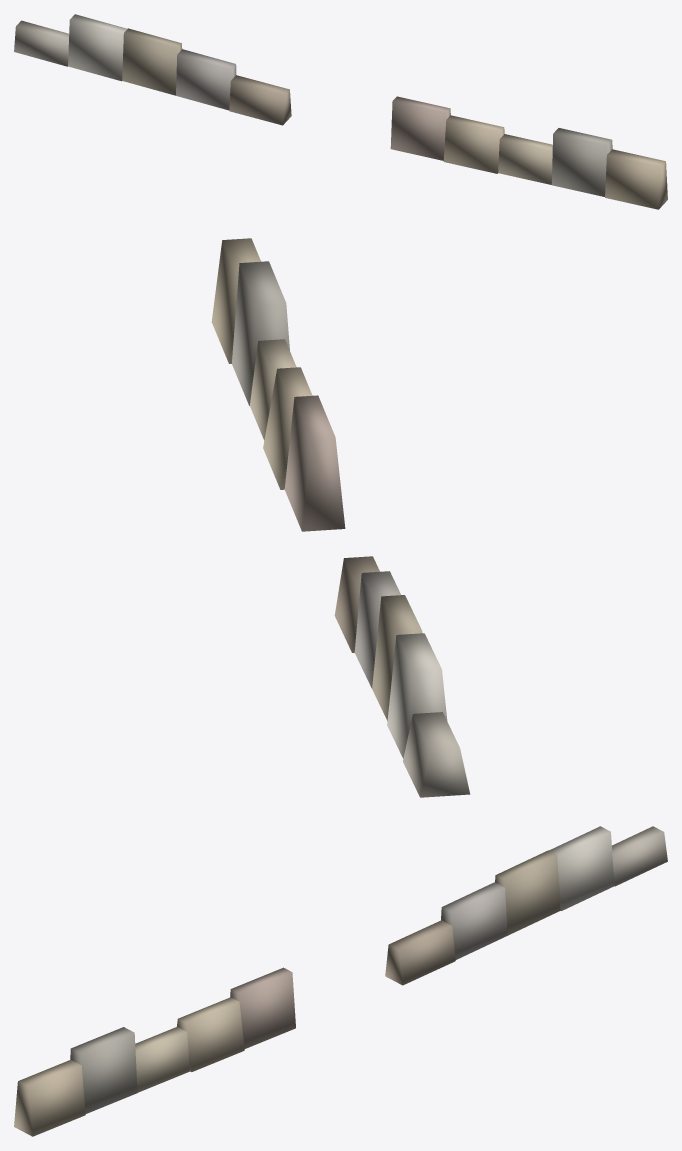
File: farm_21_20_collision.glb
3 views of the same model, one above another, from view 1: azimuth 30°, elevation 25°; view 2: azimuth 150°, elevation 25°; view 3: azimuth 270°, elevation 25° (orthographic). The views are drawn at different scales.
Visible parts, largest first — view 1: geometry_0; view 2: geometry_0; view 3: geometry_0.
Part boxes in pixels (box(x1,y1,x2,y2)): geometry_0: box(14, 14, 667, 209); geometry_0: box(211, 238, 470, 797); geometry_0: box(14, 826, 667, 1136).
Size of the model in its own units: 12.48 by 2.75 by 15.36.
